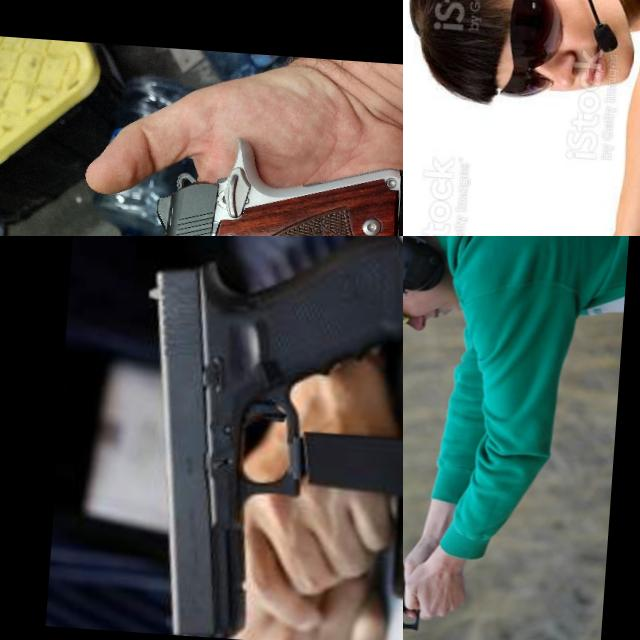handgun: (121, 236, 403, 640), (120, 123, 403, 236), (403, 548, 435, 640)
